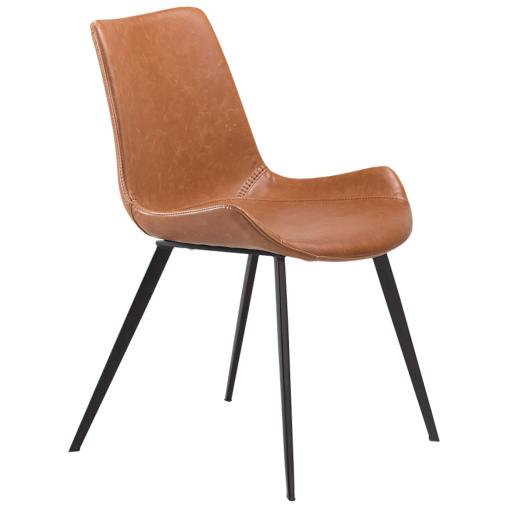chair: (51, 2, 440, 500)
